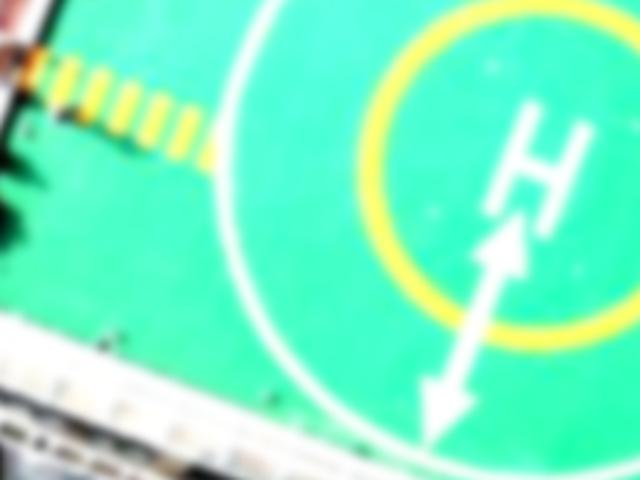Apron: (350, 1, 639, 355)
